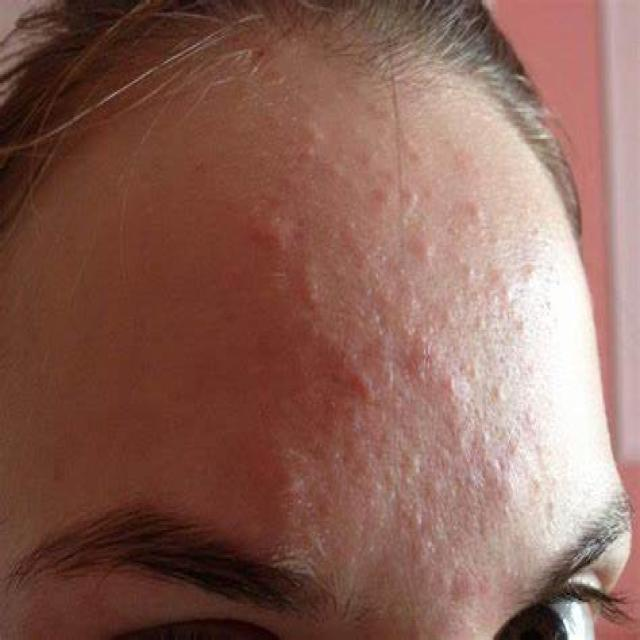fungal: (211, 102, 540, 612)
